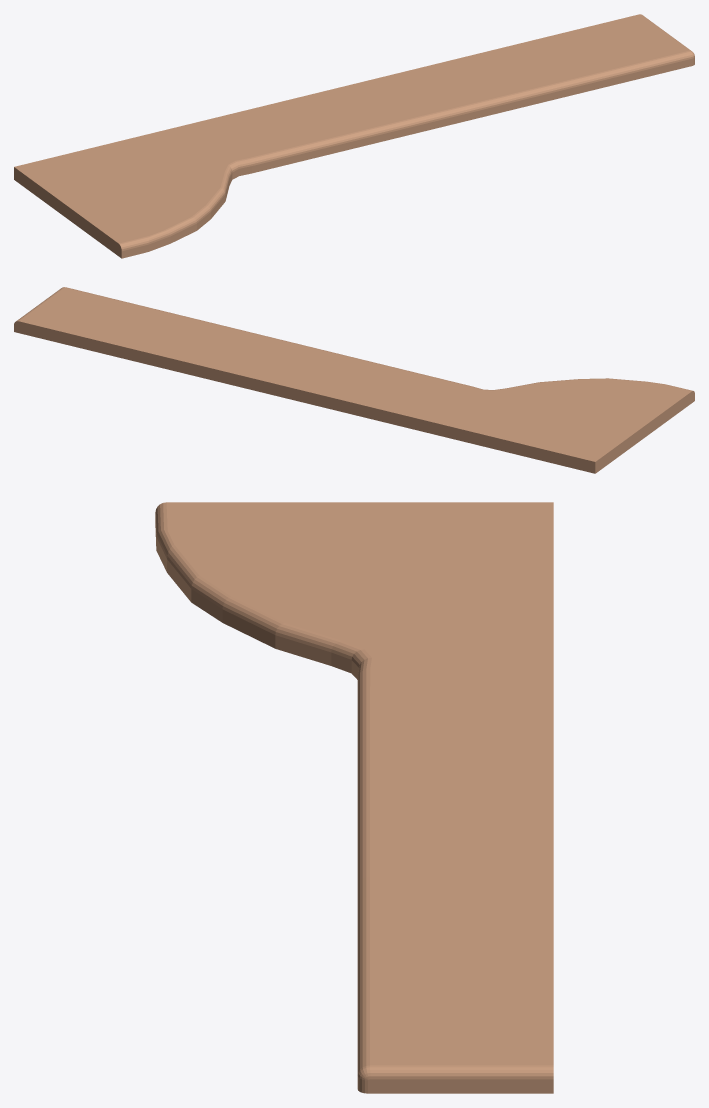
The model's file is Mannequin & rack_platform.fbx.
The picture shows the model from 3 angles, top to bottom: view 1: azimuth 30°, elevation 25°; view 2: azimuth 150°, elevation 25°; view 3: azimuth 270°, elevation 25°; orthographic projection. The views are drawn at different scales.
Visible parts, largest first — view 1: Cube.002; view 2: Cube.002; view 3: Cube.002.
Boxes of the visible parts, left/top/right/bottom form: Cube.002: left=14, top=14, right=694, bottom=258; Cube.002: left=14, top=287, right=694, bottom=473; Cube.002: left=155, top=502, right=553, bottom=1093.
Size of the model in its own units: 1685 by 32.89 by 500.
